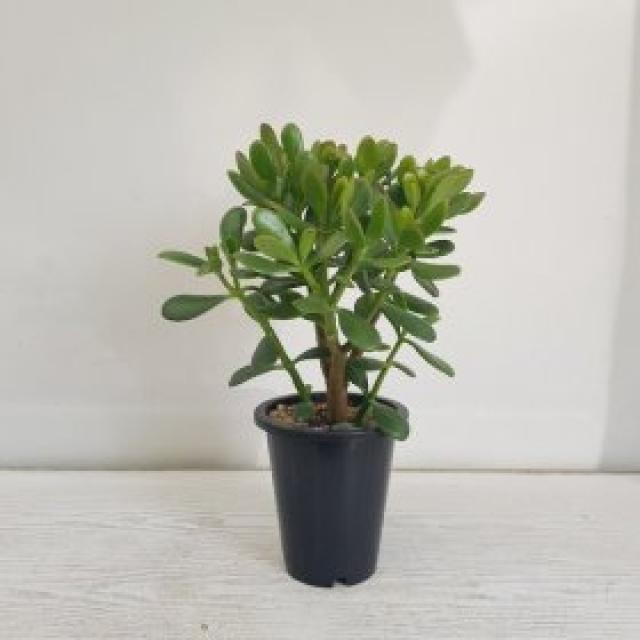Crassula: (160, 125, 484, 324)
